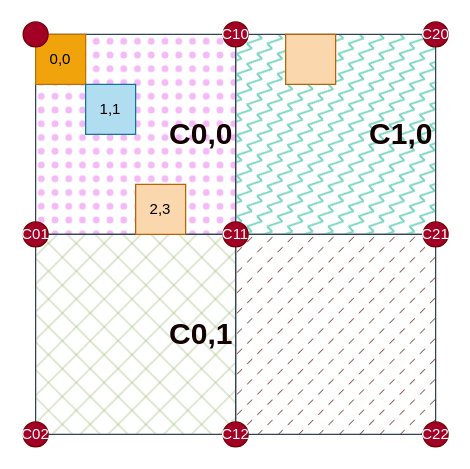
Some shapes in this 470 by 469 pixel diagram are drawn without their labels. Here are the shapes that lost their labels. From the top down, the box of each, then its label:
(22, 21, 48, 47): C00
(284, 33, 336, 84): 5,0 cr0,1
(234, 233, 436, 434): C1,1
